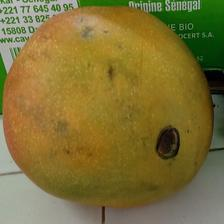mango: (2, 5, 215, 208)
